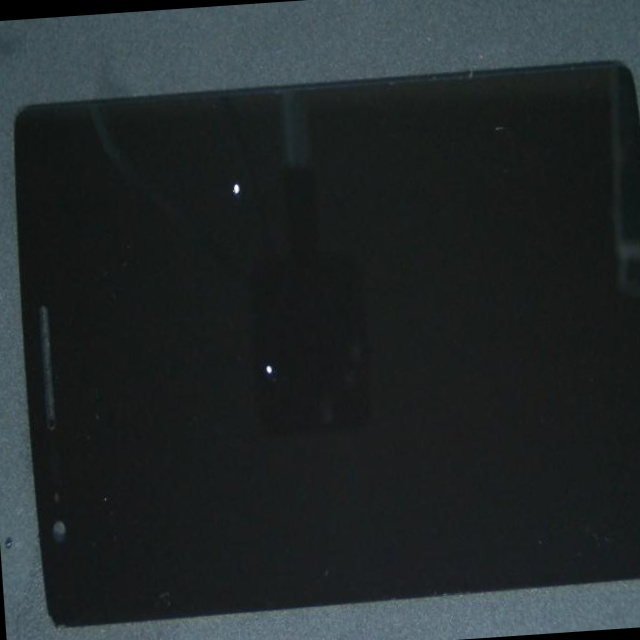stain: (131, 134, 409, 533), (112, 51, 367, 259)
